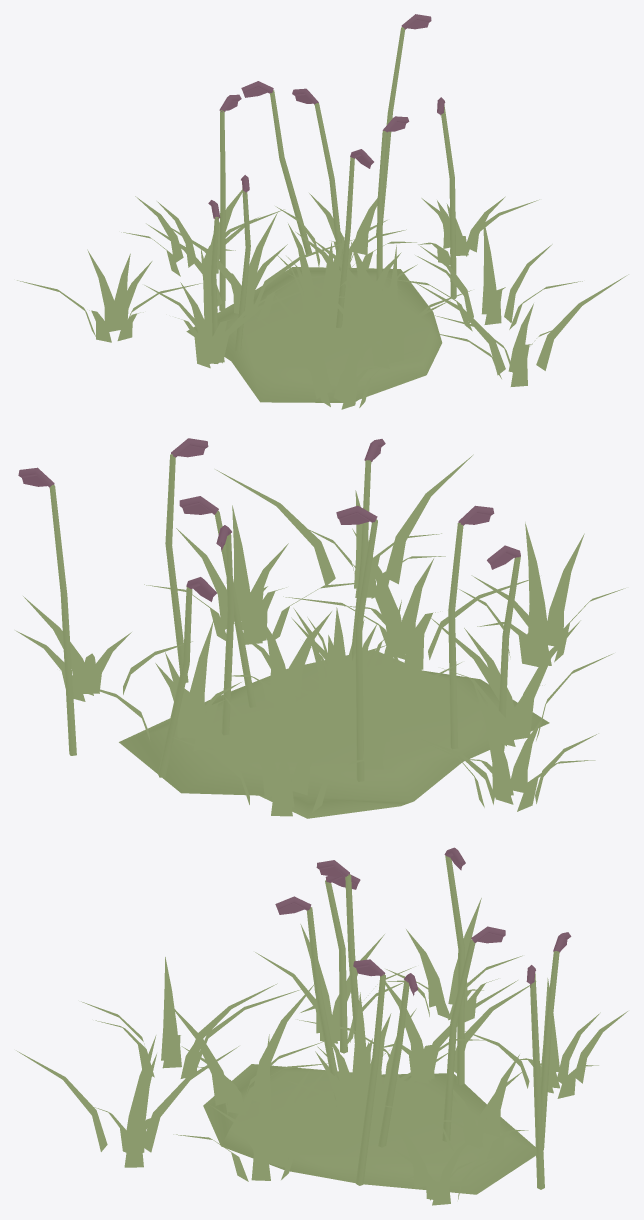
File: Blender_Buffalograss_1.glb
3 renders of one model, top to bottom at view 1: azimuth 30°, elevation 25°; view 2: azimuth 150°, elevation 25°; view 3: azimuth 270°, elevation 25°, orthographic. The views are drawn at different scales.
Visible parts, largest first — view 1: Blender_Buffalograss_1; view 2: Blender_Buffalograss_1; view 3: Blender_Buffalograss_1.
Boxes of the visible parts, x1,y1,x2,y2 form: Blender_Buffalograss_1: [17, 14, 628, 409]; Blender_Buffalograss_1: [15, 438, 625, 818]; Blender_Buffalograss_1: [16, 847, 627, 1205].
Bounding box in the file's own units: 0.6469 × 0.3066 × 0.6316.
